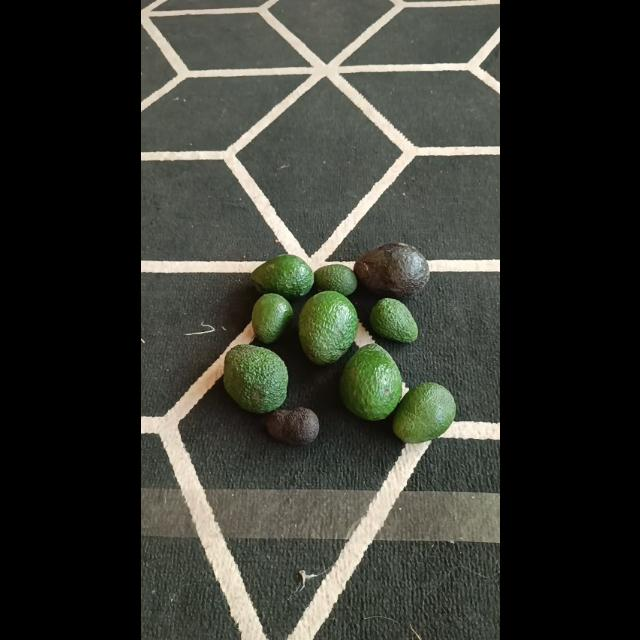Primera: (338, 342, 402, 420), (222, 343, 288, 413), (296, 291, 358, 364), (354, 242, 428, 298)
Segunda: (391, 382, 455, 444), (250, 254, 314, 298)
Tercera: (368, 296, 418, 344), (249, 292, 293, 344), (264, 407, 318, 445), (312, 263, 356, 297)
